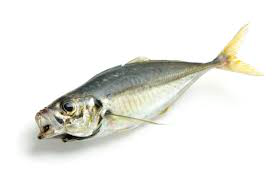azi: (30, 25, 258, 144)
